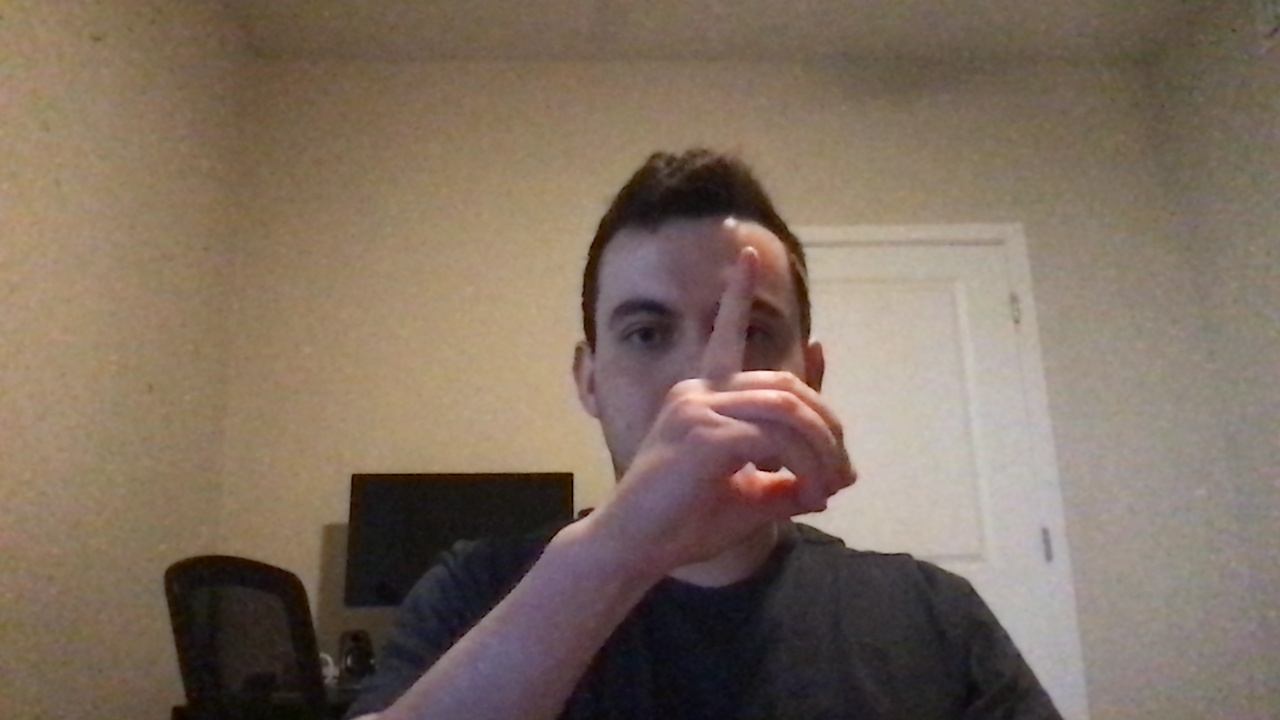d: (605, 237, 864, 589)
